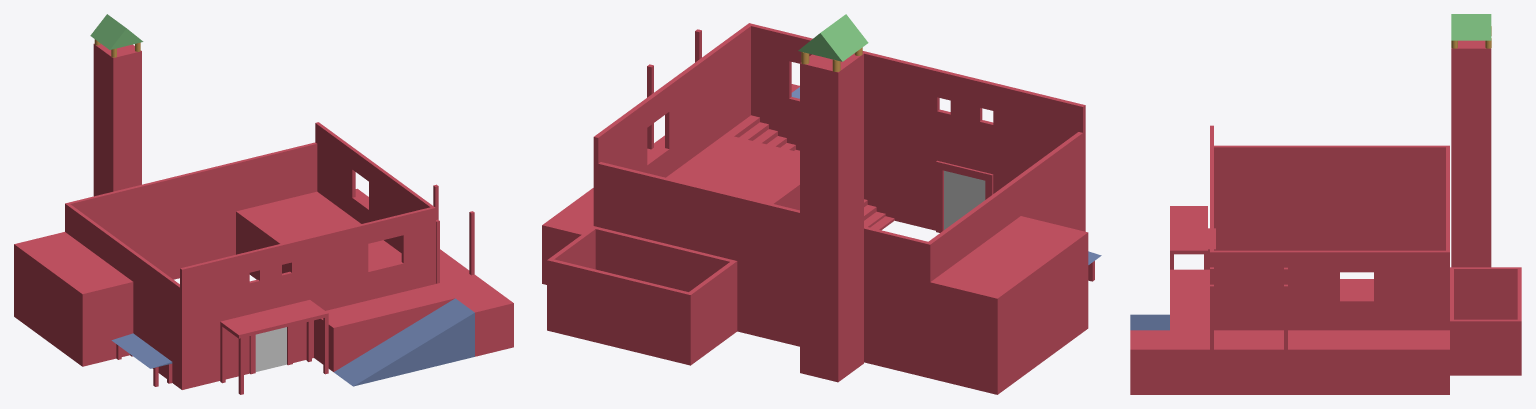
3 renders of one model, left to right at view 1: azimuth 30°, elevation 25°; view 2: azimuth 150°, elevation 25°; view 3: azimuth 270°, elevation 25°, orthographic. The views are drawn at different scales.
Visible parts, largest first — view 1: Mesh_Mesh_head_geo.001_lambert2SG.001; view 2: Mesh_Mesh_head_geo.001_lambert2SG.001; view 3: Mesh_Mesh_head_geo.001_lambert2SG.001.
Part boxes in pixels (x1=…): Mesh_Mesh_head_geo.001_lambert2SG.001: x1=14, y1=14, x2=513, y2=394; Mesh_Mesh_head_geo.001_lambert2SG.001: x1=542, y1=14, x2=1101, y2=394; Mesh_Mesh_head_geo.001_lambert2SG.001: x1=1130, y1=14, x2=1521, y2=394.
Size of the model in its own units: 0.203 by 0.147 by 0.196.
